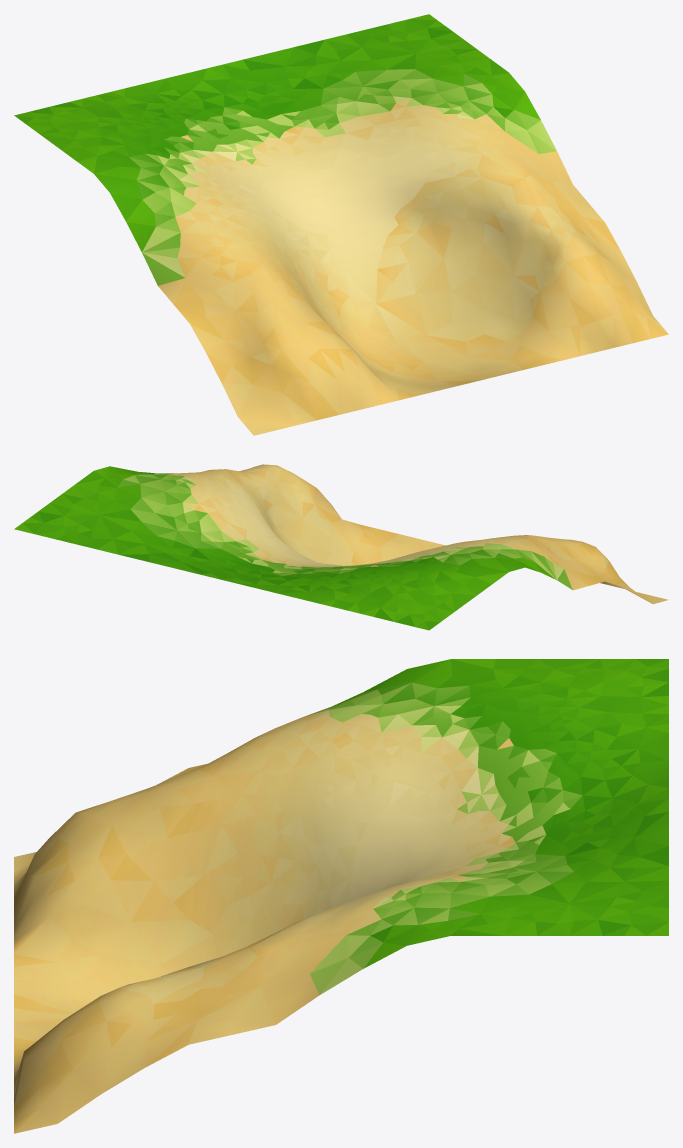
Rendered from GL-Terrain-part-03.fbx.
3 renders of one model, top to bottom at view 1: azimuth 30°, elevation 25°; view 2: azimuth 150°, elevation 25°; view 3: azimuth 270°, elevation 25°, orthographic. The views are drawn at different scales.
Parts seen in each view (by area): view 1: GL-Terrain-part-03; view 2: GL-Terrain-part-03; view 3: GL-Terrain-part-03.
Part boxes in pixels (x1=…): GL-Terrain-part-03: x1=14, y1=14, x2=668, y2=435; GL-Terrain-part-03: x1=14, y1=464, x2=668, y2=630; GL-Terrain-part-03: x1=14, y1=659, x2=668, y2=1133.
Bounding box in the file's own units: 18 × 6.83 × 18.
